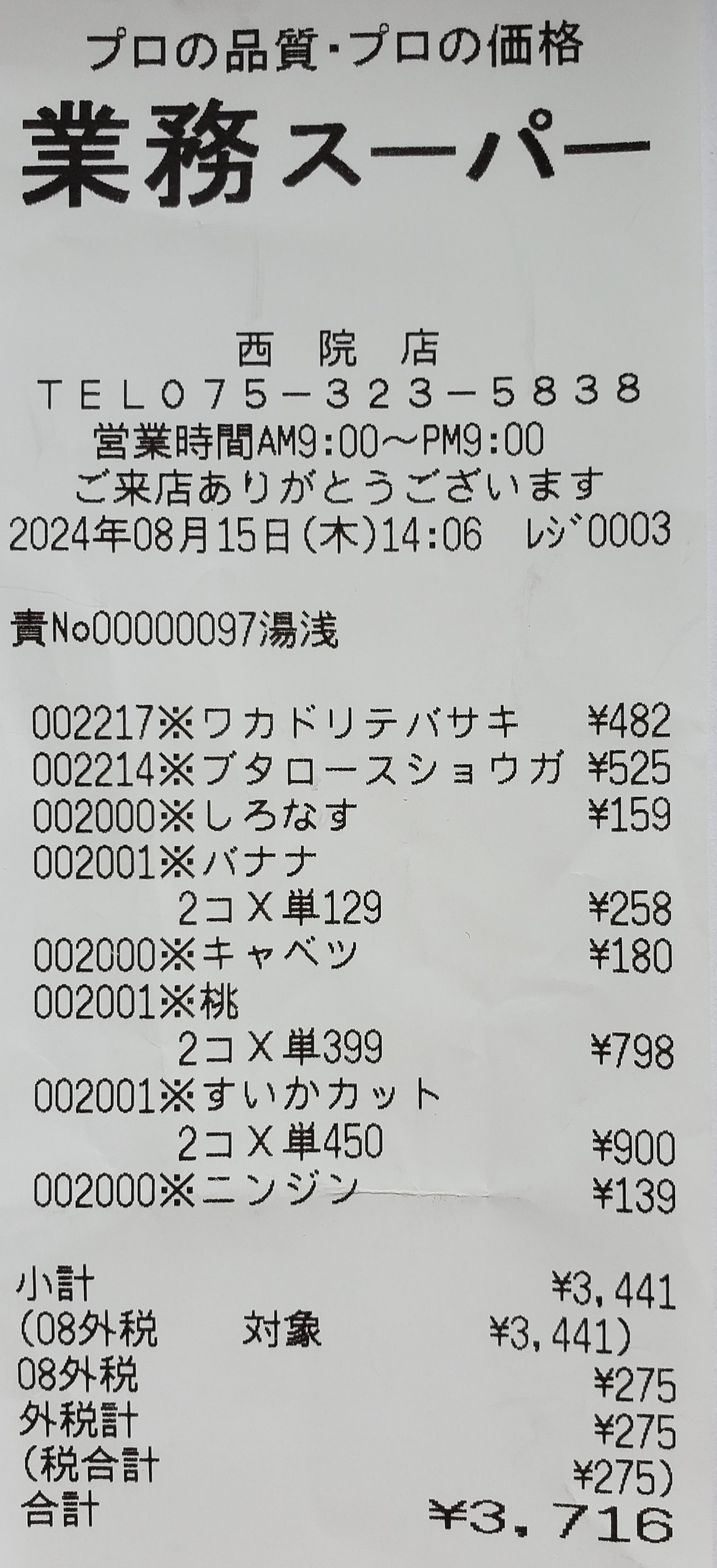Date: (7, 506, 302, 568)
Shopname: (7, 79, 703, 231)
Telnum: (150, 370, 659, 416)
Totalpay: (16, 1484, 708, 1556)
